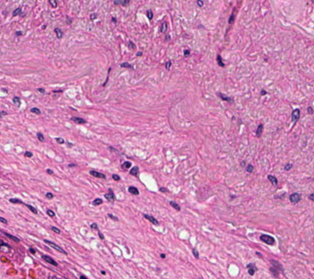nucleus: (44, 239, 66, 253), (270, 259, 283, 271), (2, 232, 19, 241), (42, 255, 57, 265), (144, 214, 158, 224), (260, 234, 274, 244), (217, 92, 232, 101), (246, 263, 257, 275), (90, 170, 105, 178), (105, 188, 114, 201), (267, 175, 277, 185), (25, 204, 36, 213), (256, 124, 263, 137), (217, 54, 224, 66), (71, 117, 85, 123), (170, 201, 179, 210), (54, 28, 62, 38), (128, 186, 138, 194), (270, 266, 278, 276), (120, 62, 132, 68), (12, 96, 20, 105), (130, 166, 138, 175), (92, 198, 102, 205), (9, 198, 22, 203), (37, 132, 44, 141), (108, 213, 117, 220), (0, 240, 9, 247), (30, 107, 40, 113), (192, 248, 198, 258), (122, 161, 130, 168), (246, 164, 253, 172), (51, 226, 59, 233), (128, 41, 135, 48), (47, 209, 54, 216), (165, 61, 171, 69), (56, 137, 64, 143), (90, 223, 98, 229), (98, 230, 103, 239), (112, 174, 119, 180), (46, 192, 52, 198), (25, 151, 32, 156), (159, 187, 167, 191), (0, 217, 6, 222), (29, 248, 35, 253), (256, 251, 261, 257), (184, 50, 189, 55), (38, 88, 44, 92), (46, 169, 52, 173), (16, 31, 21, 35), (1, 111, 5, 116), (240, 161, 245, 165), (2, 88, 6, 92), (261, 90, 265, 94), (101, 270, 105, 274), (136, 52, 141, 55), (68, 164, 75, 166), (166, 35, 169, 39), (67, 143, 71, 146), (160, 254, 164, 257)
